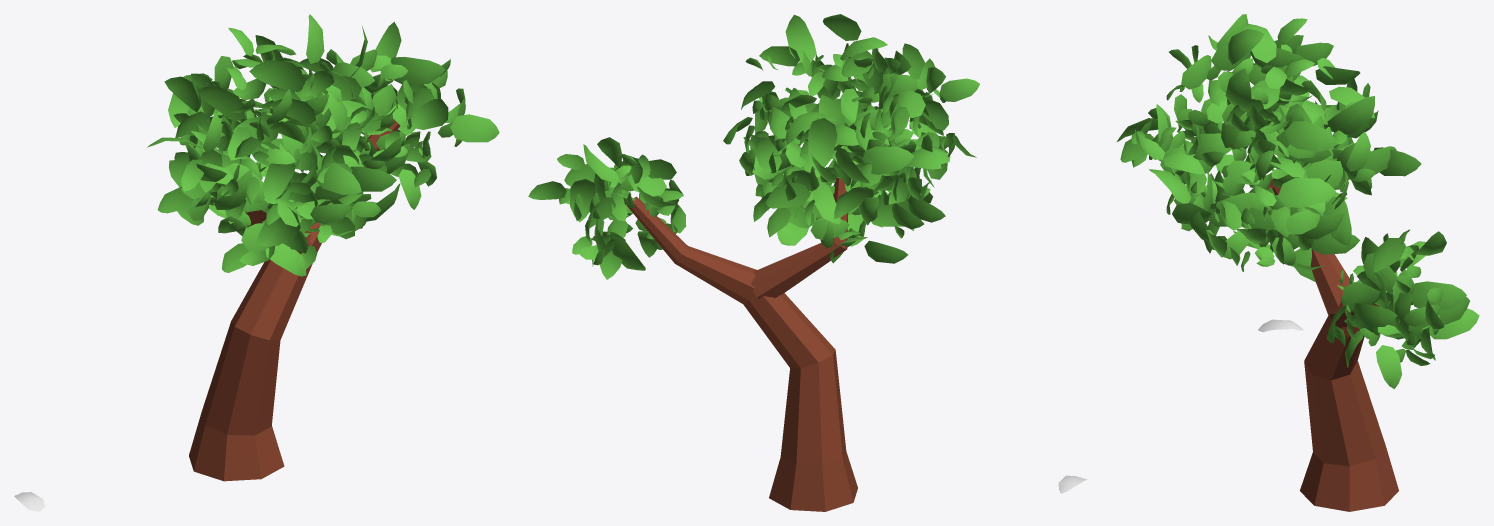
File: geometry_trees.glb
3 views of the same model, side by side, from view 1: azimuth 30°, elevation 25°; view 2: azimuth 150°, elevation 25°; view 3: azimuth 270°, elevation 25° (orthographic). The views are drawn at different scales.
Parts seen in each view (by area): view 1: Icosphere, Cube; view 2: Icosphere, Cube; view 3: Icosphere, Cube.
Part boxes in pixels (x1,y1,x2,y2): Icosphere: [147, 14, 499, 276]; Cube: [189, 118, 400, 481]; Icosphere: [528, 14, 979, 281]; Cube: [626, 178, 857, 511]; Icosphere: [1117, 14, 1479, 388]; Cube: [1268, 179, 1398, 511].
Bounding box in the file's own units: 6.45 × 5.69 × 3.95.
